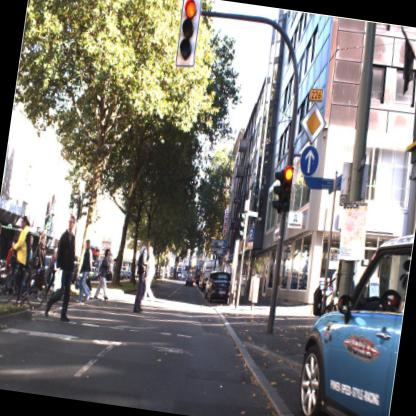other: (297, 98, 329, 148)
prohibitory: (297, 141, 321, 177)
